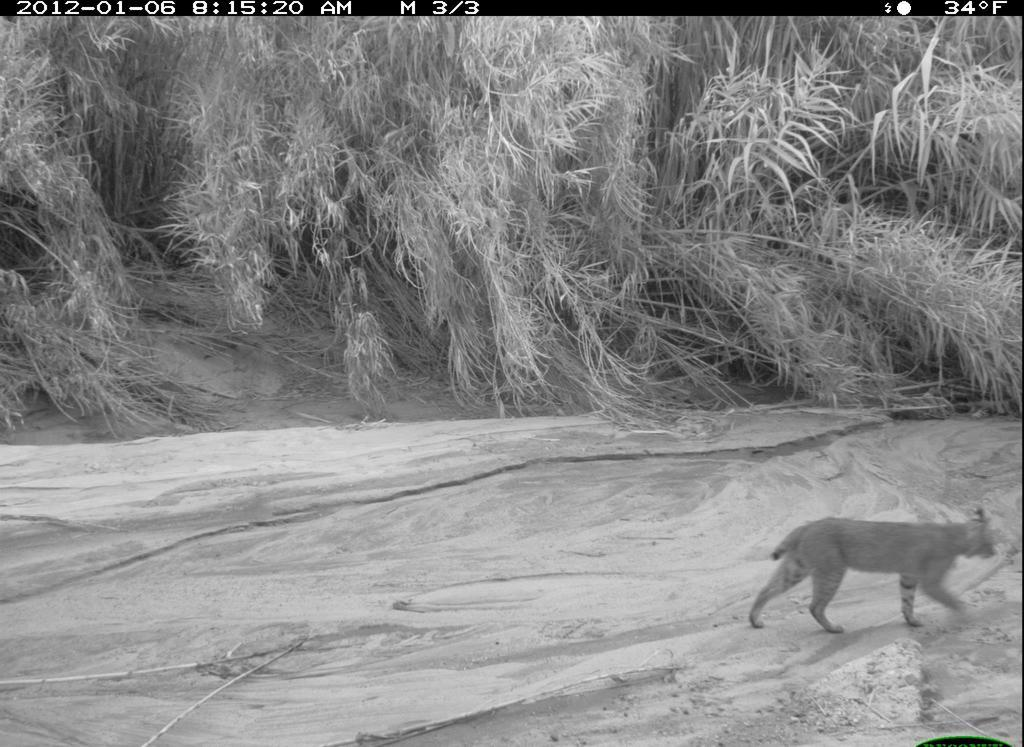bobcat: (739, 502, 1008, 643)
